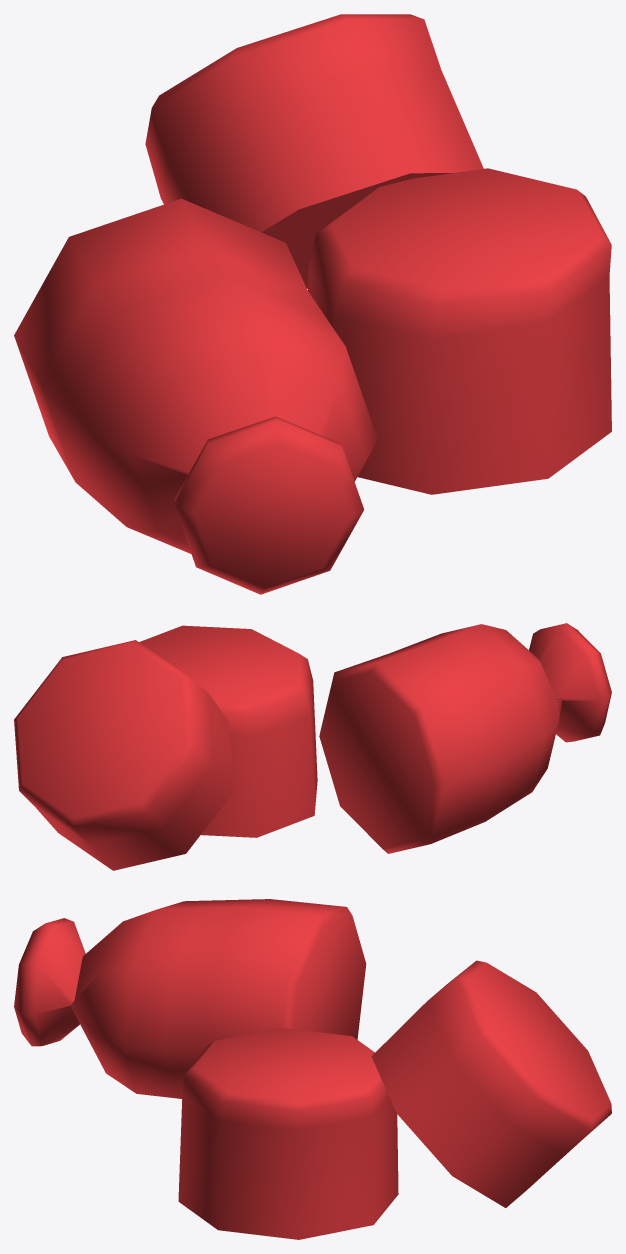
The model's file is SM_Sausage_CB.fbx.
3 views of the same model, one above another, from view 1: azimuth 30°, elevation 25°; view 2: azimuth 150°, elevation 25°; view 3: azimuth 270°, elevation 25° (orthographic). The views are drawn at different scales.
Visible parts, largest first — view 1: Sausage_Part.001; view 2: Sausage_Part.001; view 3: Sausage_Part.001.
Boxes of the visible parts, <box> form: Sausage_Part.001: <box>14,14,611,594</box>; Sausage_Part.001: <box>14,623,611,870</box>; Sausage_Part.001: <box>14,899,611,1239</box>.
Size of the model in its own units: 65.67 by 35.4 by 84.14.
